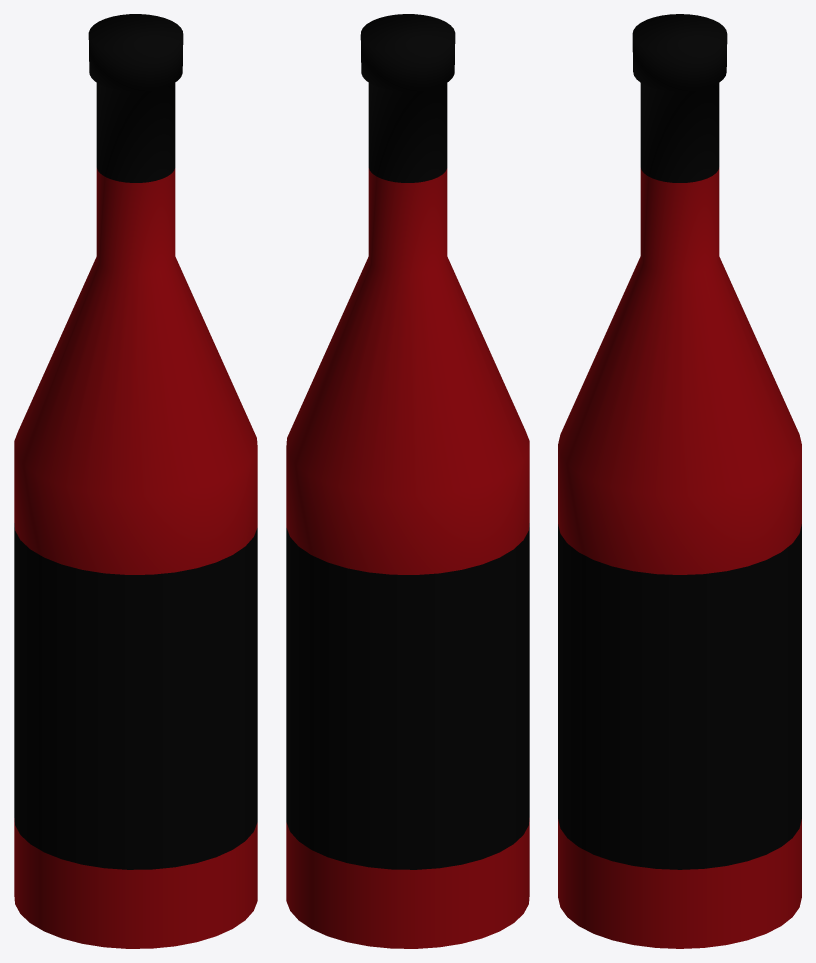
File: WineBottle.glb
3 views of the same model, side by side, from view 1: azimuth 30°, elevation 25°; view 2: azimuth 150°, elevation 25°; view 3: azimuth 270°, elevation 25° (orthographic).
Parts seen in each view (by area): view 1: WineBottle; view 2: WineBottle; view 3: WineBottle.
Boxes of the visible parts, <box> form: WineBottle: <box>14,14,257,948</box>; WineBottle: <box>286,14,529,948</box>; WineBottle: <box>558,14,801,948</box>.
Size of the model in its own units: 0.1764 by 0.6891 by 0.1764.
